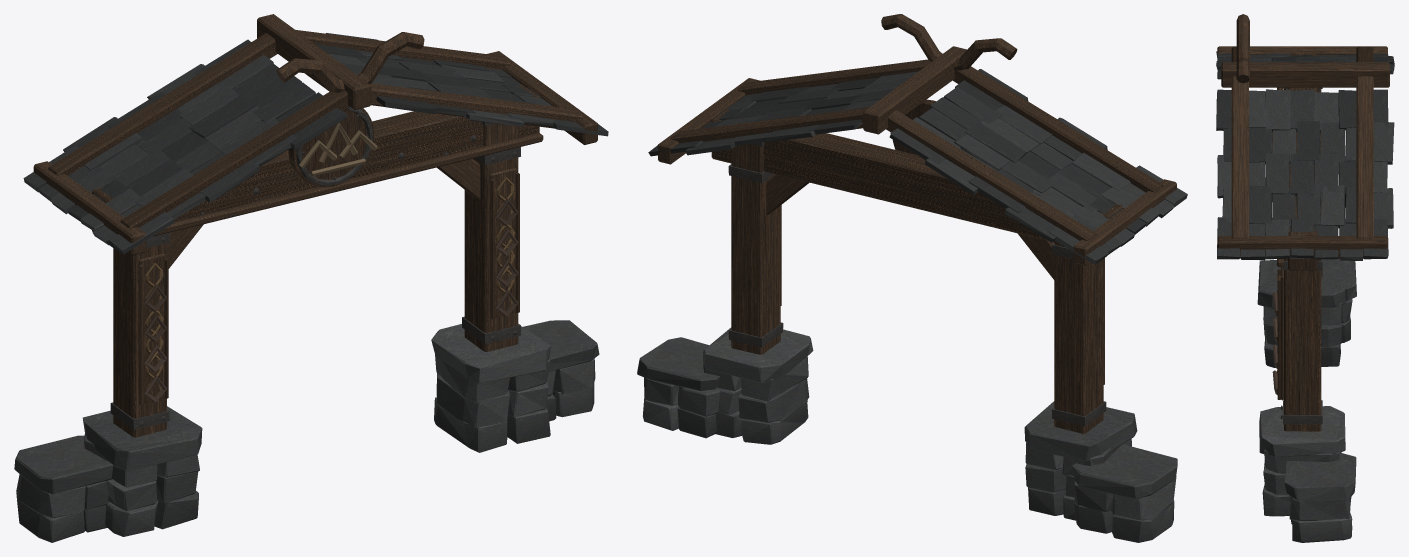
File: barrosan_muster_gate_lod1.glb
The picture shows the model from 3 angles, left to right: view 1: azimuth 30°, elevation 25°; view 2: azimuth 150°, elevation 25°; view 3: azimuth 270°, elevation 25°; orthographic projection. The views are drawn at different scales.
Visible parts, largest first — view 1: barrosan_muster_gate; view 2: barrosan_muster_gate; view 3: barrosan_muster_gate.
Part boxes in pixels (<box>): barrosan_muster_gate: <box>14,14,608,542</box>; barrosan_muster_gate: <box>637,14,1187,542</box>; barrosan_muster_gate: <box>1216,14,1394,542</box>.
Bounding box in the file's own units: 5.81 × 4.49 × 1.86.
Materials: 4 (3 with a texture image).
